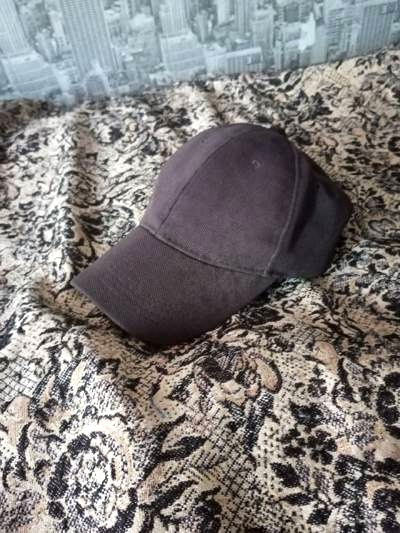Hat: (66, 85, 373, 364)
